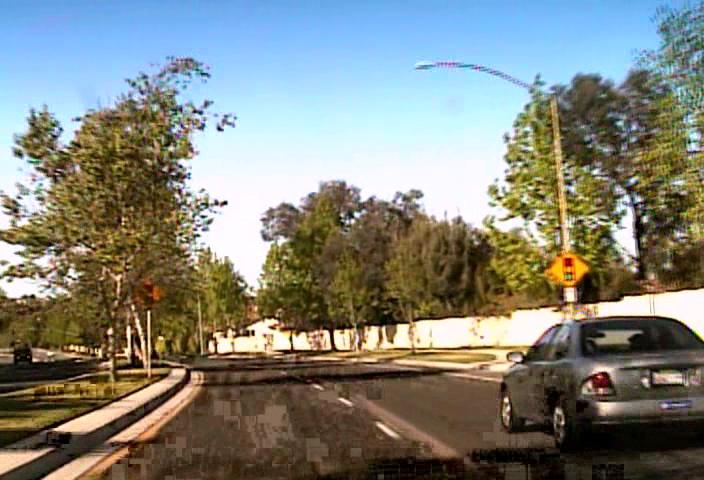signalAhead: (546, 250, 590, 286)
